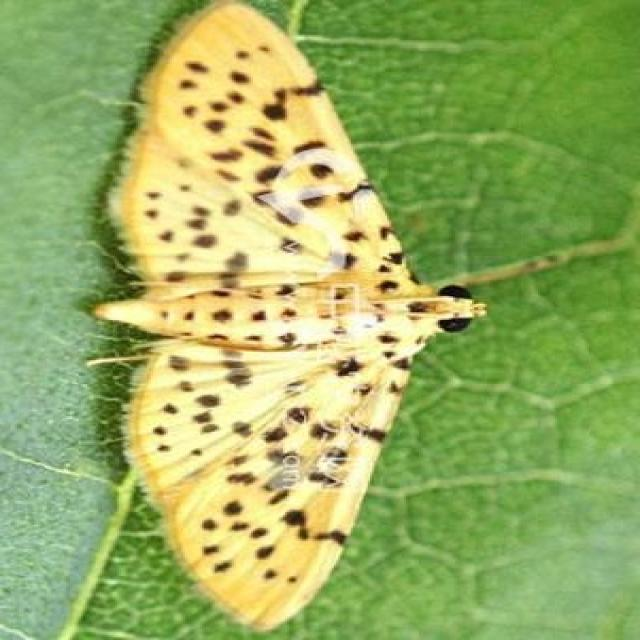peach borer: (52, 5, 499, 637)
